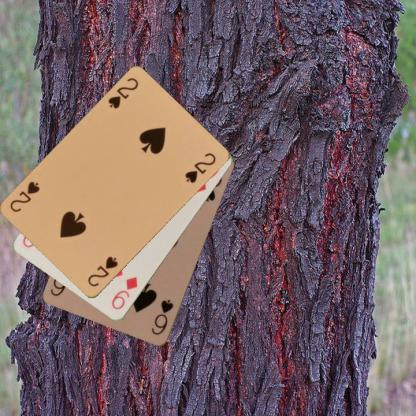2s: (105, 75, 140, 110), (85, 254, 120, 288)
6s: (149, 297, 175, 337)
9d: (109, 274, 139, 311)
